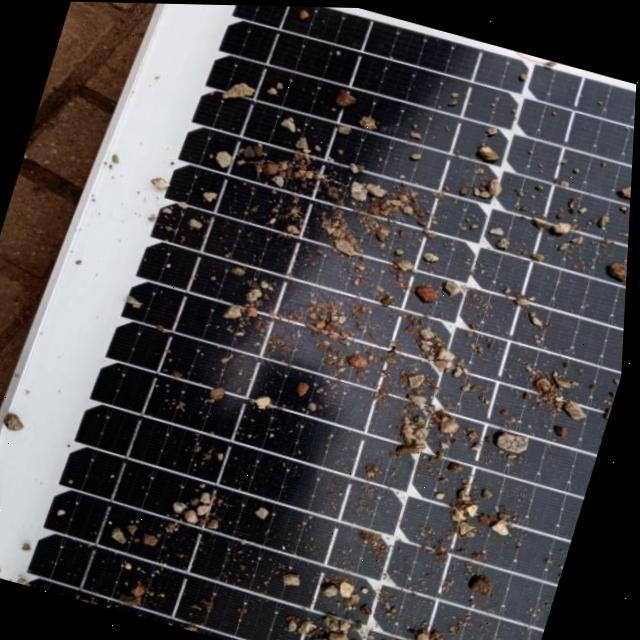Anomaly Solar Panel: (1, 0, 640, 640)
Surface Contaminant: (30, 3, 636, 640)
